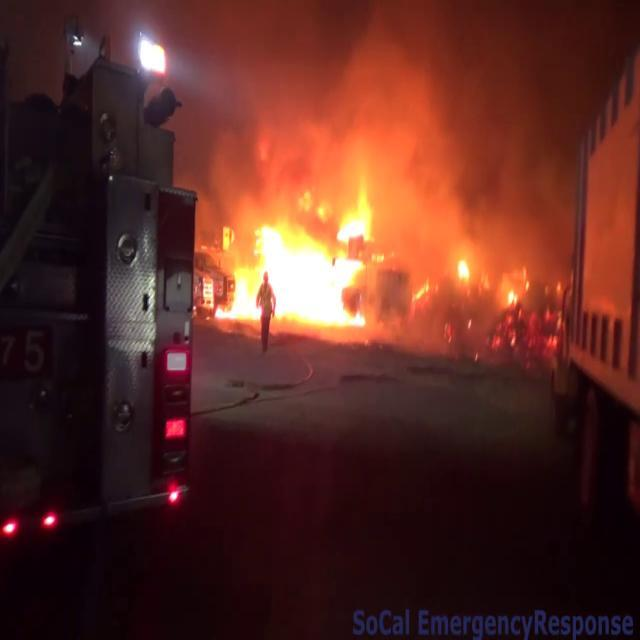Fire: (208, 184, 384, 335)
Smoke: (186, 0, 602, 334)
